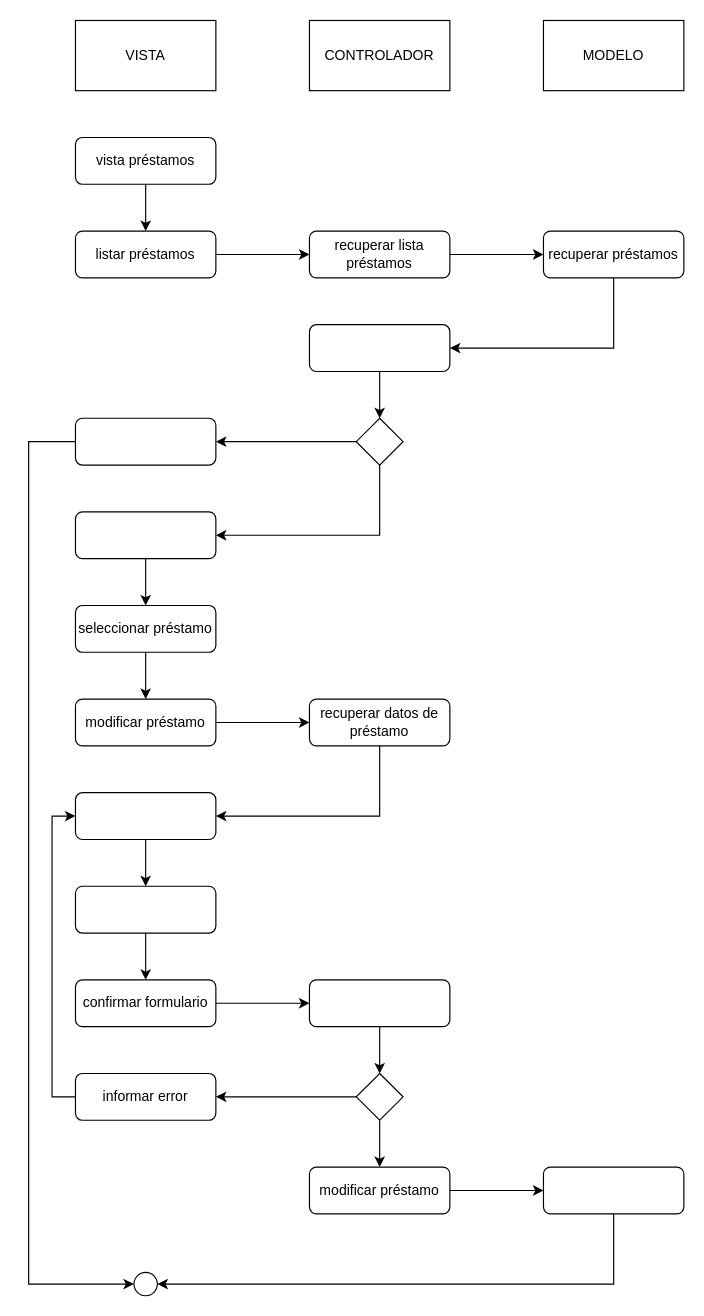
The diagram is 704 pixels wide and 1316 high, and some of its shapes have lost their labels. The centre of each missing label's shape, as x and y in pixels:
comprobar lista: point 379,347
informar lista vacia: point 145,441
modificar formulario: point 145,909
modificar tabla préstamos: point 613,1190
mostrar formulario: point 145,815
mostrar lista: point 145,535
validar datos: point 379,1003
